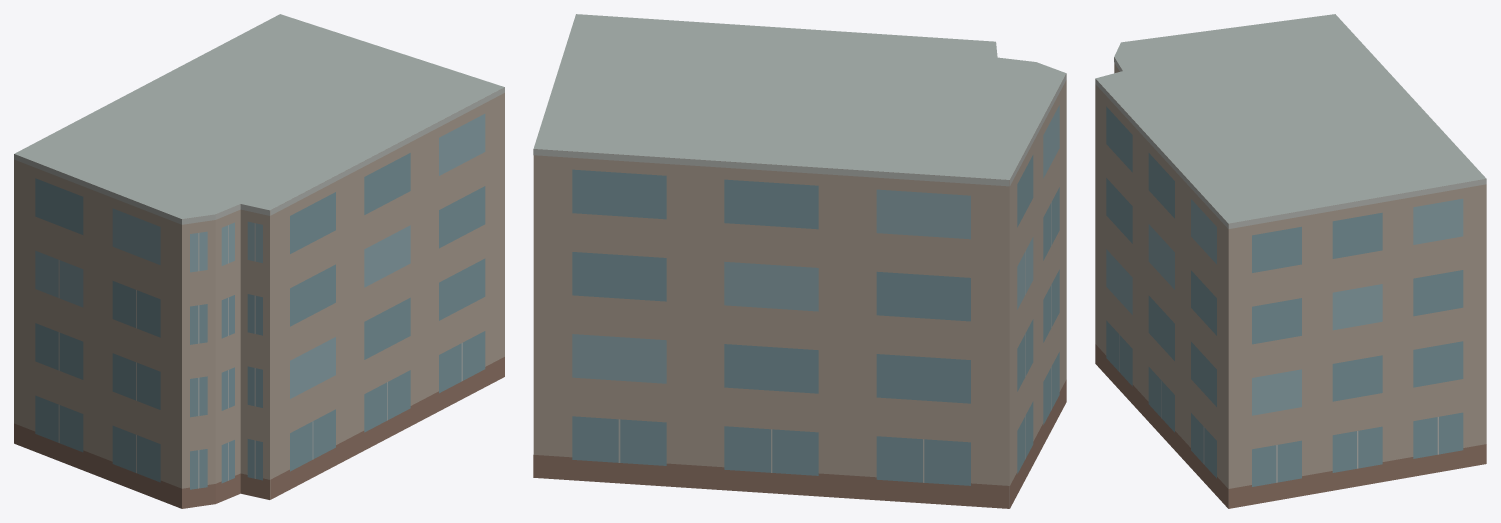
Rendered from survey-upis-32861189.glb.
3 views of the same model, side by side, from view 1: azimuth 30°, elevation 25°; view 2: azimuth 150°, elevation 25°; view 3: azimuth 270°, elevation 25° (orthographic). The views are drawn at different scales.
Parts seen in each view (by area): view 1: survey-upis-32861189.tmp; view 2: survey-upis-32861189.tmp; view 3: survey-upis-32861189.tmp.
Part boxes in pixels (<box>): survey-upis-32861189.tmp: <box>14,14,504,508</box>; survey-upis-32861189.tmp: <box>533,14,1066,508</box>; survey-upis-32861189.tmp: <box>1095,14,1486,508</box>.
Bounding box in the file's own units: 19.87 × 12.6 × 15.67.
